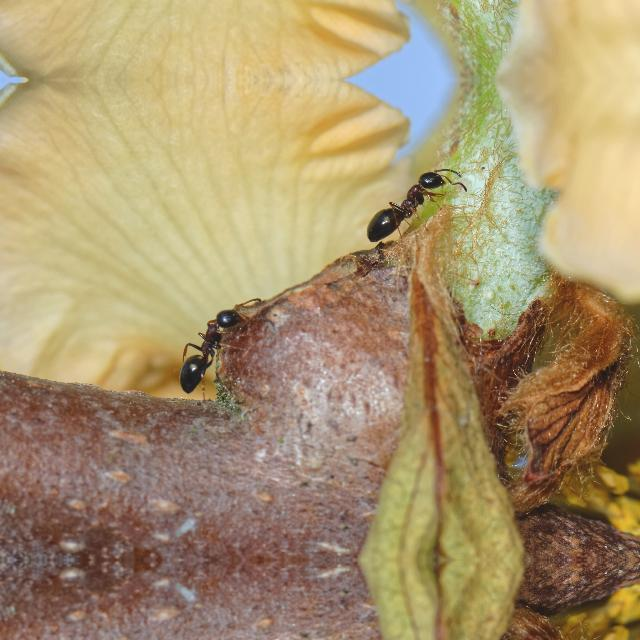Dolichoderus: (158, 293, 260, 402), (358, 154, 469, 246)
